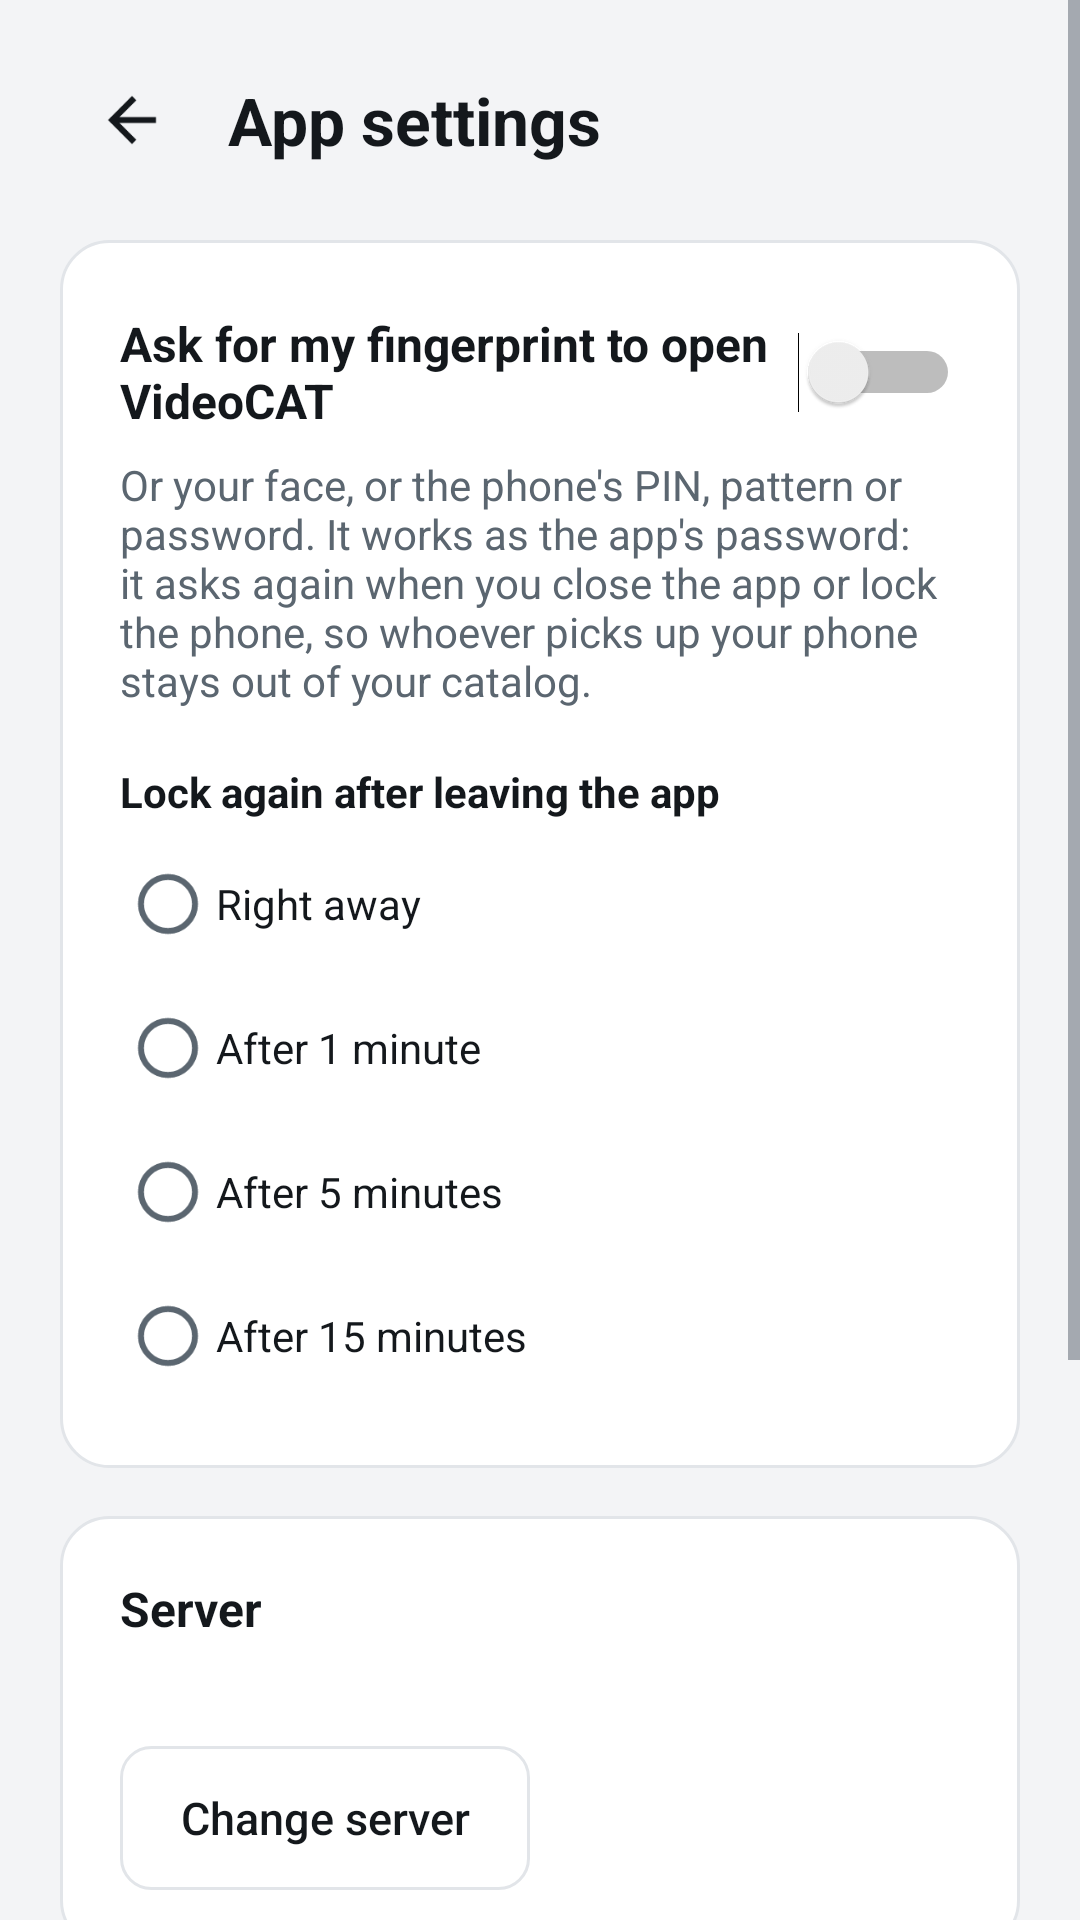

Named icons in this screenshot (1080px x 1920px) and their centers, point (x, y):
Back: point (132, 120)
